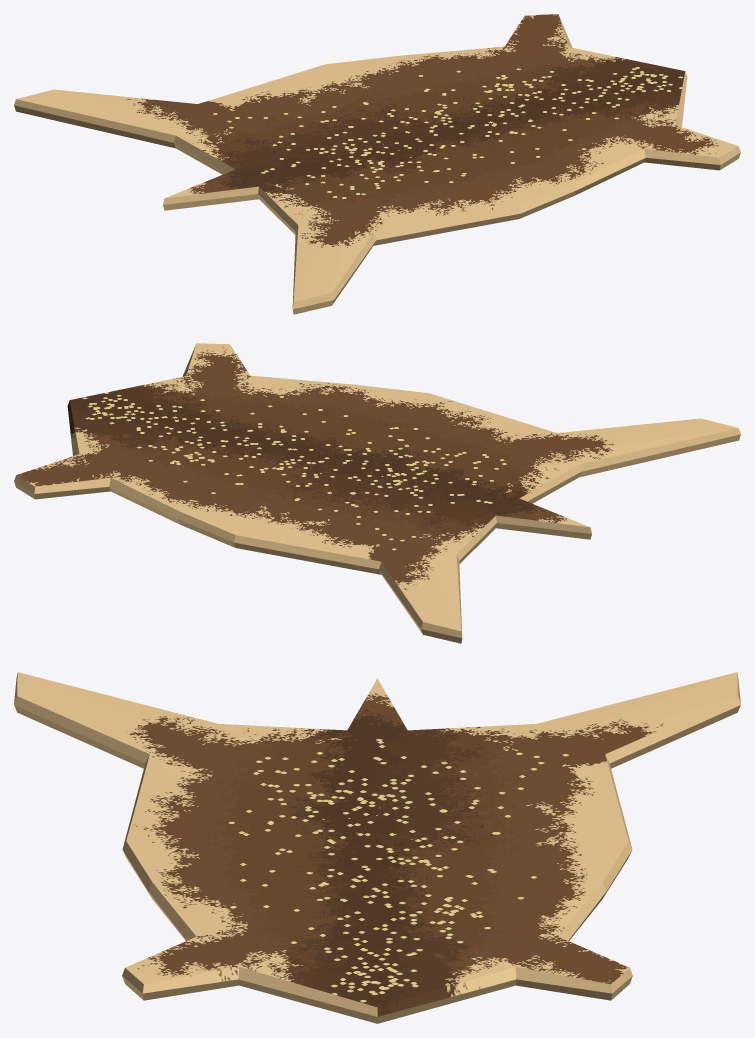
The model's file is DeerSkinTestWorldItem.glb.
The picture shows the model from 3 angles, top to bottom: view 1: azimuth 30°, elevation 25°; view 2: azimuth 150°, elevation 25°; view 3: azimuth 270°, elevation 25°; orthographic projection. The views are drawn at different scales.
Parts seen in each view (by area): view 1: Cube; view 2: Cube; view 3: Cube.
Boxes of the visible parts, box(x1,y1,x2,y2) form: Cube: box(14, 14, 740, 314); Cube: box(14, 343, 740, 643); Cube: box(14, 672, 740, 1023).
Bounding box in the file's own units: 3.69 × 0.0951 × 3.36.
1 material, 1 textured.
